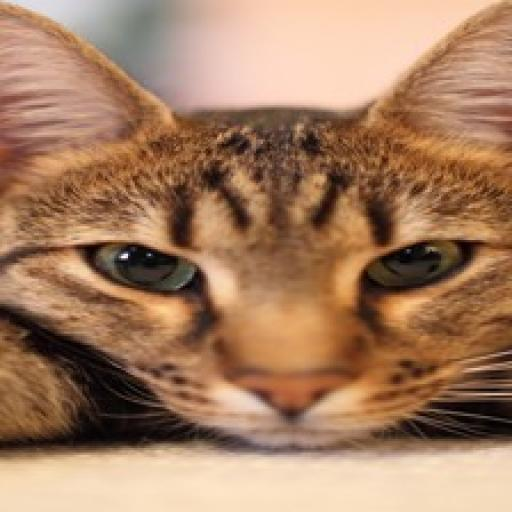cat: (0, 4, 510, 450)
